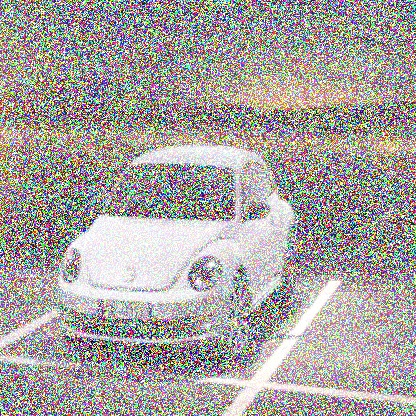Vehicle: (52, 141, 303, 367)
